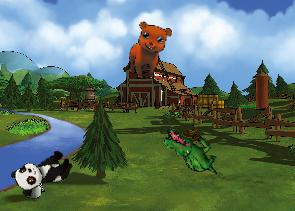bear: (128, 21, 172, 81)
crocodile: (158, 127, 224, 176)
panda: (9, 144, 76, 199)
